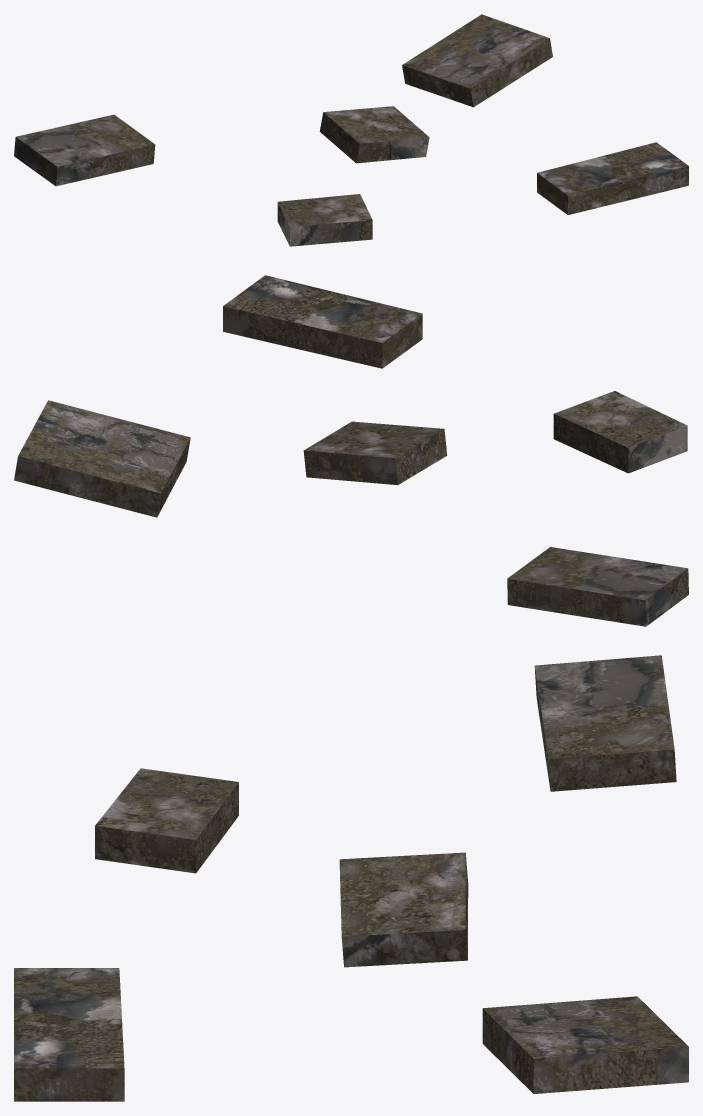
File: FreeTiles4.fbx
3 renders of one model, top to bottom at view 1: azimuth 30°, elevation 25°; view 2: azimuth 150°, elevation 25°; view 3: azimuth 270°, elevation 25°, orthographic. The views are drawn at different scales.
Parts seen in each view (by area): view 1: FreeTiles4; view 2: FreeTiles4; view 3: FreeTiles4.
Part boxes in pixels (<box>): FreeTiles4: <box>14,14,688,246</box>; FreeTiles4: <box>14,275,688,626</box>; FreeTiles4: <box>14,655,688,1101</box>.
Size of the model in its own units: 532 by 366 by 41.59.
